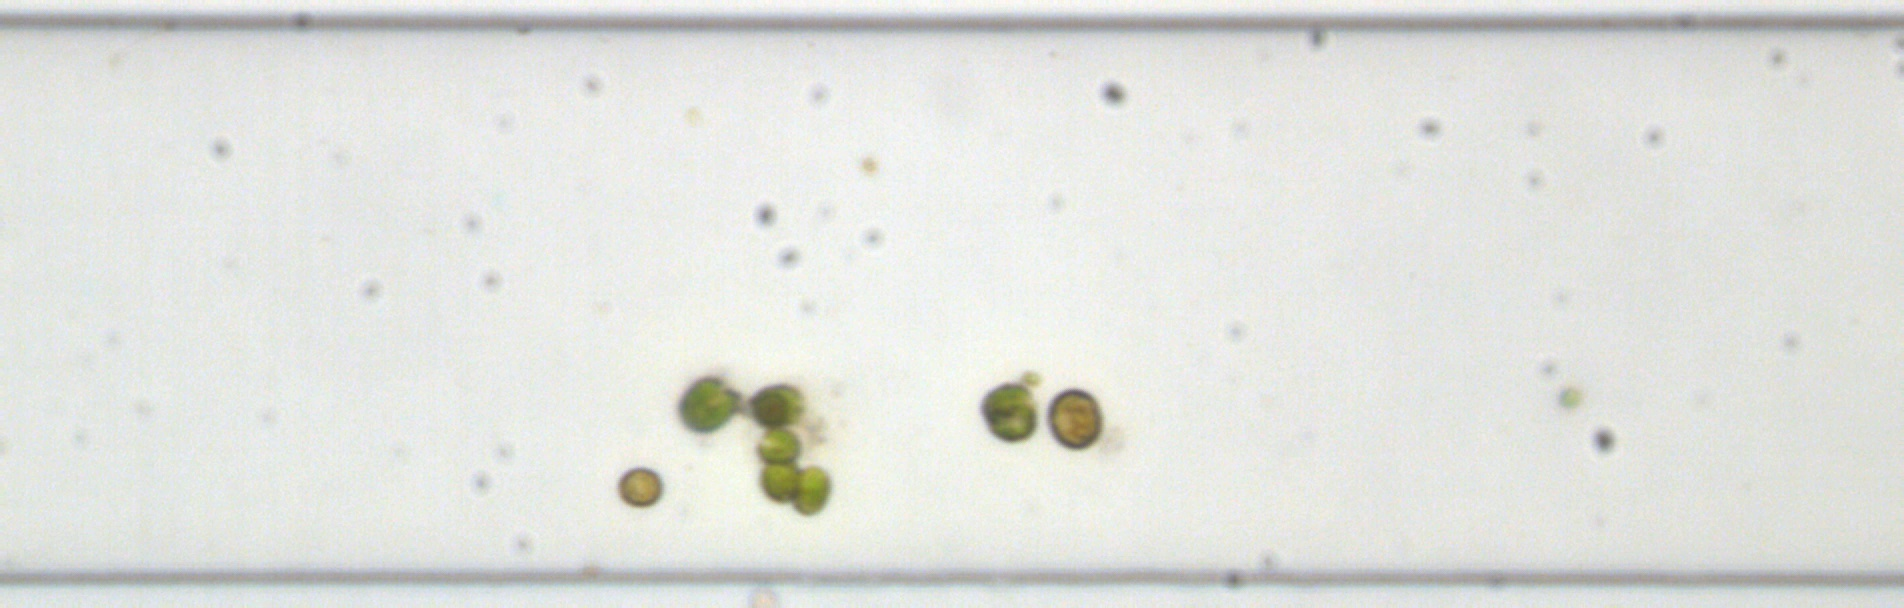Chlorella: (1555, 383, 1580, 410), (858, 155, 878, 174)
Effrenium: (1043, 383, 1105, 453), (611, 462, 669, 512)
Platymonas: (671, 371, 742, 434), (975, 382, 1039, 447), (746, 381, 806, 427), (789, 461, 832, 518), (756, 458, 805, 504), (753, 425, 803, 464)
